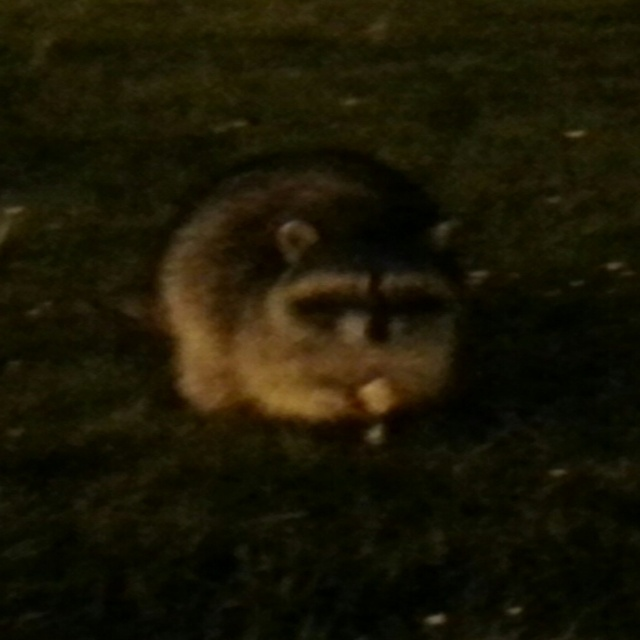Raccoon: (162, 150, 466, 419)
